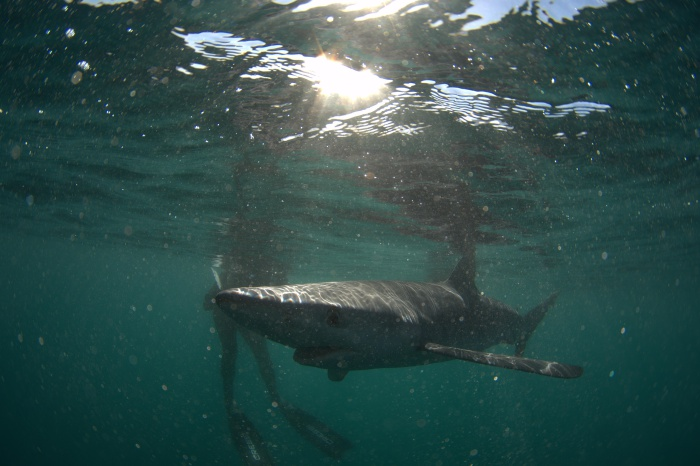Azul: (218, 214, 611, 407)
